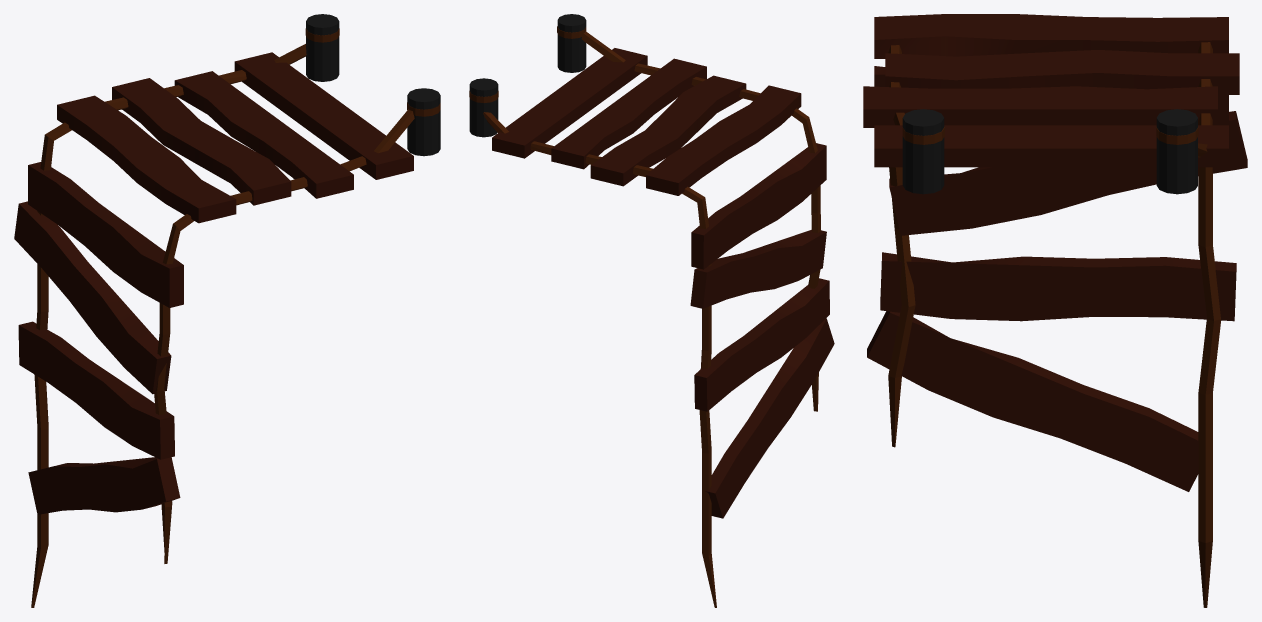
The model's file is Broken Bridge 2.FBX.
The picture shows the model from 3 angles, left to right: view 1: azimuth 30°, elevation 25°; view 2: azimuth 150°, elevation 25°; view 3: azimuth 270°, elevation 25°; orthographic projection. The views are drawn at different scales.
Visible parts, largest first — view 1: Broken bridge 2, Box001, Cylinder003, Cylinder002; view 2: Broken bridge 2, Box001, Cylinder003, Cylinder002; view 3: Broken bridge 2, Box001, Cylinder003, Cylinder002.
Boxes of the visible parts, bbox=[...] form: Broken bridge 2: bbox=[14, 102, 440, 563]; Box001: bbox=[57, 52, 413, 223]; Cylinder003: bbox=[31, 28, 339, 607]; Cylinder002: bbox=[306, 14, 440, 156]; Broken bridge 2: bbox=[557, 26, 834, 518]; Box001: bbox=[492, 48, 801, 195]; Cylinder003: bbox=[469, 91, 716, 607]; Cylinder002: bbox=[469, 14, 586, 137]; Broken bridge 2: bbox=[867, 45, 1247, 491]; Box001: bbox=[863, 14, 1239, 167]; Cylinder003: bbox=[1156, 42, 1220, 607]; Cylinder002: bbox=[902, 109, 1197, 194].
Bounding box in the file's own units: 0.5715 × 0.9749 × 0.5143.
